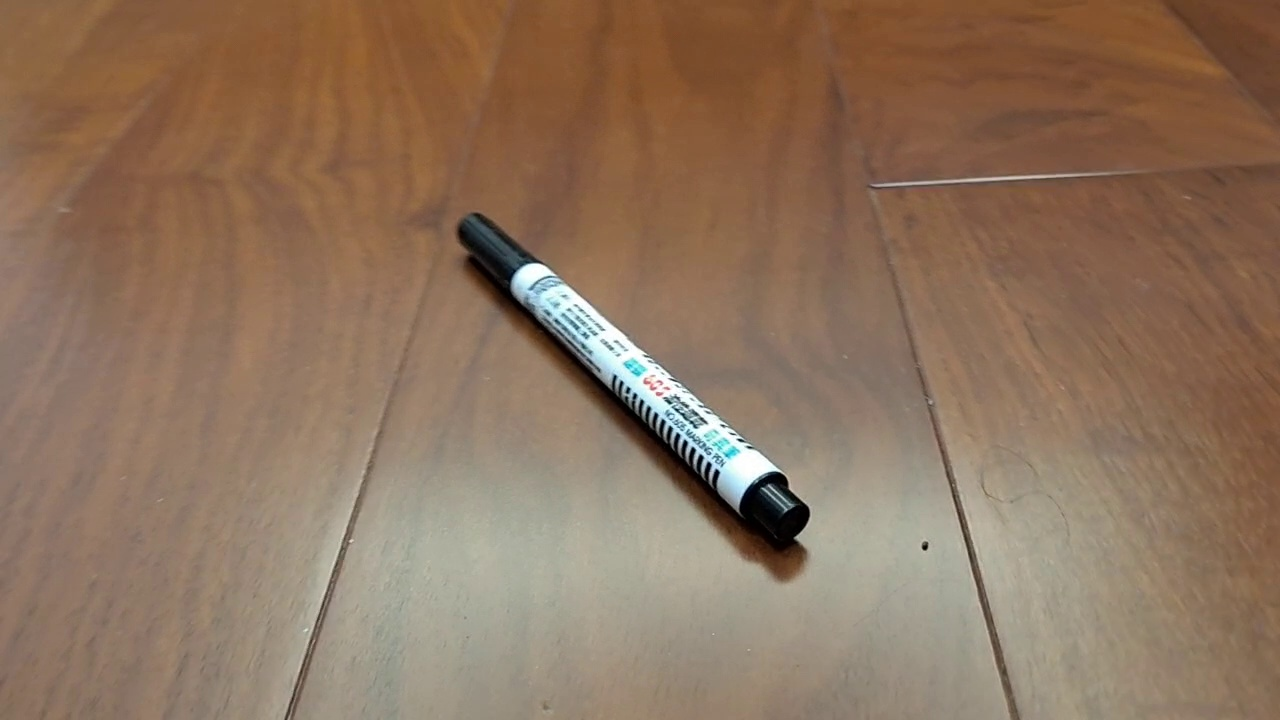pen: (455, 211, 811, 541)
